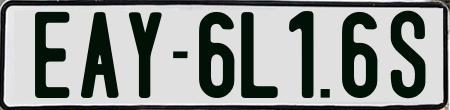1: (286, 8, 315, 95)
6: (199, 11, 239, 98), (341, 9, 380, 98)
A: (78, 11, 118, 102)
E: (33, 12, 72, 102)
L: (240, 9, 283, 100)
S: (391, 8, 428, 96)
Y: (126, 12, 161, 98)
